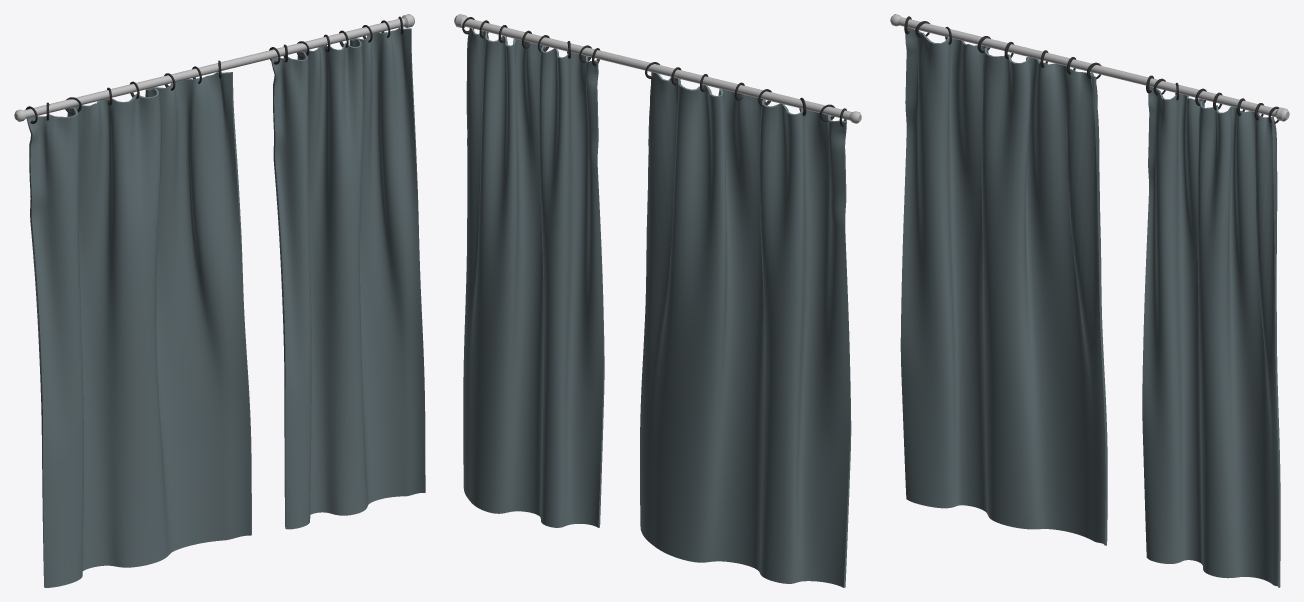
File: CurtainsAlmostClosed01.fbx
The picture shows the model from 3 angles, left to right: view 1: azimuth 30°, elevation 25°; view 2: azimuth 150°, elevation 25°; view 3: azimuth 330°, elevation 25°; orthographic projection. The views are drawn at different scales.
Visible parts, largest first — view 1: pPlane1, pPlane2, pCylinder1; view 2: pPlane1, pPlane2, pCylinder1; view 3: pPlane1, pPlane2, pCylinder1.
Part boxes in pixels (x1,y1,x2,y2): pPlane1: [26, 71, 251, 587]; pPlane2: [271, 27, 425, 529]; pCylinder1: [14, 14, 414, 121]; pPlane1: [640, 72, 851, 587]; pPlane2: [463, 28, 604, 527]; pCylinder1: [454, 14, 861, 123]; pPlane1: [900, 27, 1107, 545]; pPlane2: [1142, 86, 1280, 587]; pCylinder1: [890, 14, 1289, 121].
Bounding box in the file's own units: 106 × 122 × 8.12.
